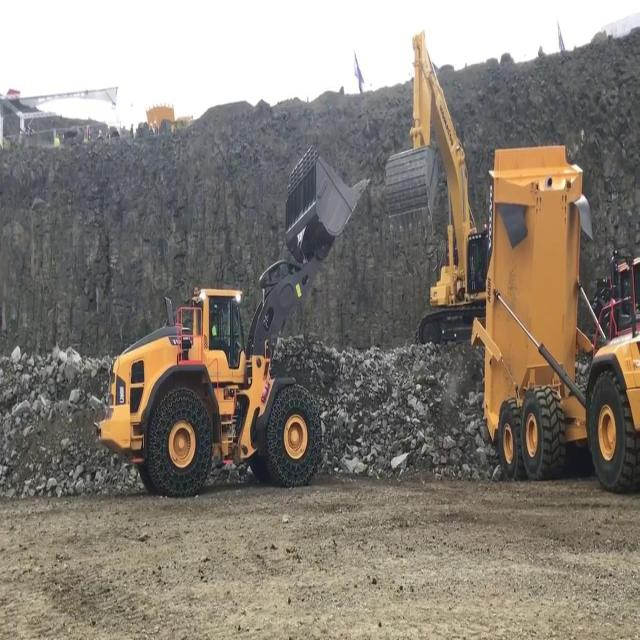buldozerpayloadergrader: (99, 148, 369, 498)
dump_truck: (486, 140, 640, 494)
excavator: (384, 31, 487, 337)
